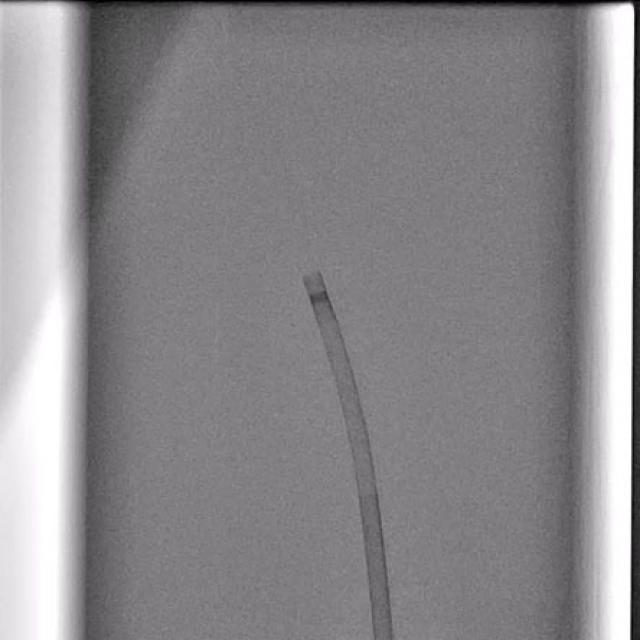bend: (358, 483, 377, 497)
entry: (375, 634, 392, 640)
marker: (308, 290, 331, 306)
tip: (302, 272, 322, 280)
